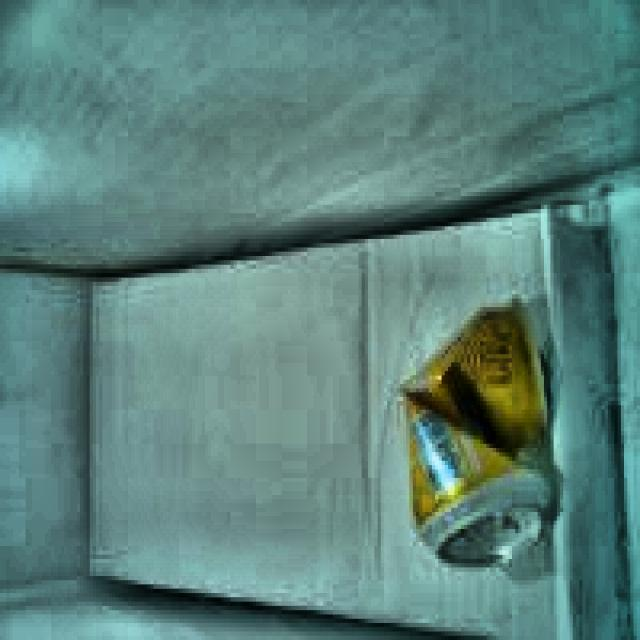Cans: (392, 281, 554, 586)
